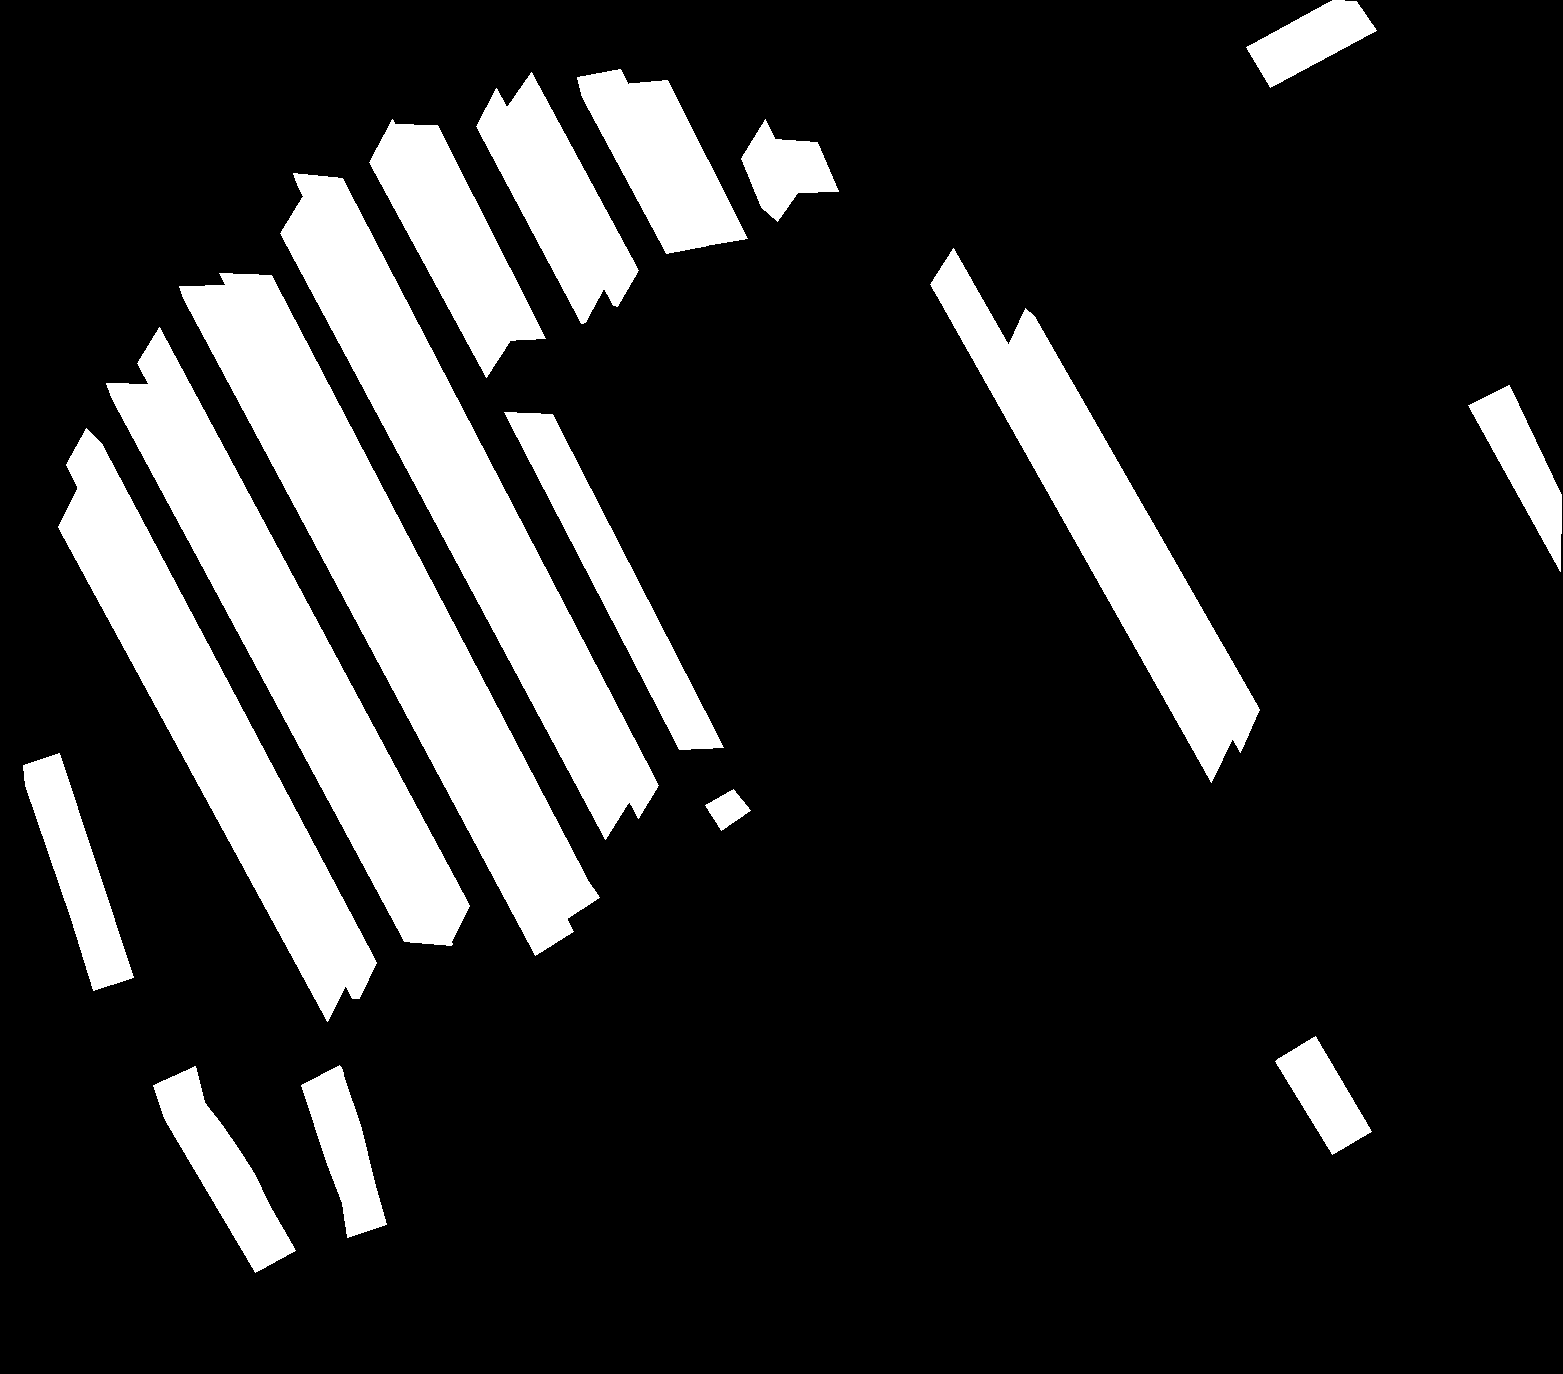parkingspot: (179, 284, 573, 955), (219, 272, 599, 920), (292, 173, 658, 819), (280, 191, 630, 838), (137, 327, 469, 943), (106, 383, 452, 945), (66, 428, 376, 998), (930, 248, 1232, 781), (58, 484, 346, 1021), (1007, 308, 1259, 752), (504, 412, 723, 749), (369, 120, 510, 377), (389, 124, 545, 340), (506, 72, 638, 306), (476, 88, 605, 323), (153, 1066, 295, 1272), (23, 753, 133, 990), (577, 69, 708, 252), (623, 80, 747, 245), (1469, 385, 1560, 571), (300, 1064, 385, 1237), (1275, 1036, 1372, 1153), (1245, 0, 1376, 86), (742, 120, 799, 221), (774, 140, 839, 191), (704, 789, 750, 831)
